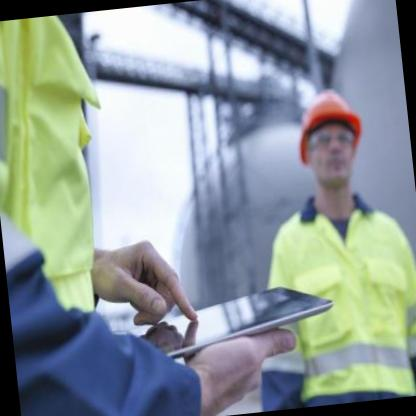helmet: (285, 71, 377, 211)
